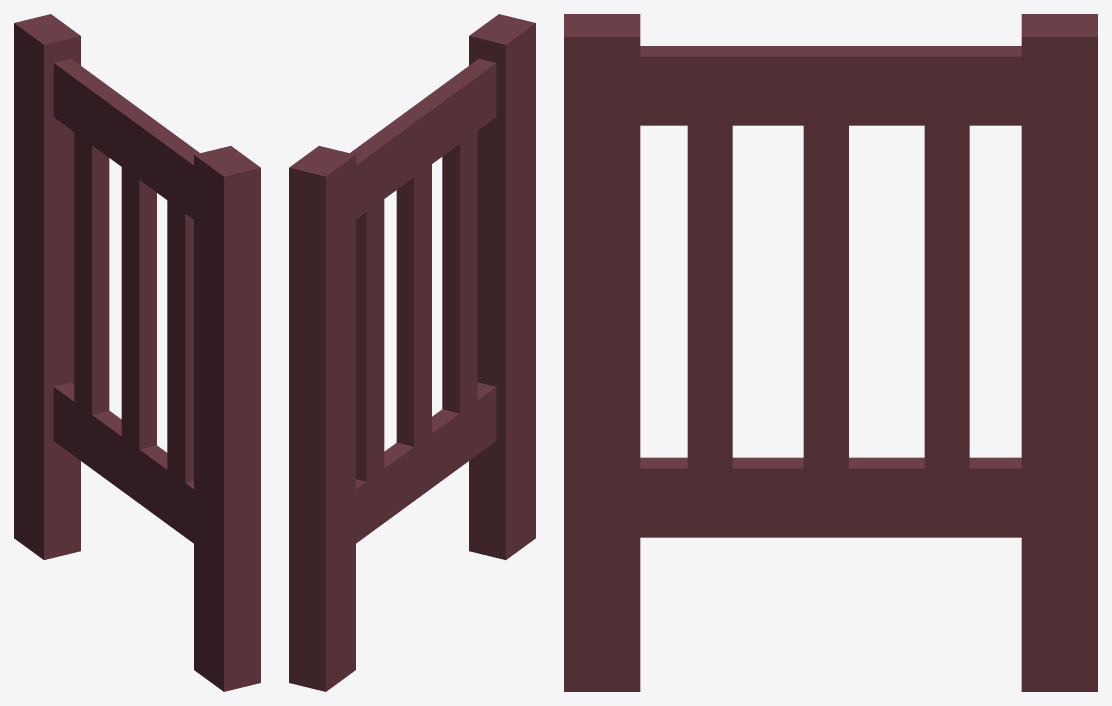
The model's file is ChairBack3.fbx.
The picture shows the model from 3 angles, left to right: view 1: azimuth 30°, elevation 25°; view 2: azimuth 150°, elevation 25°; view 3: azimuth 270°, elevation 25°; orthographic projection. The views are drawn at different scales.
Visible parts, largest first — view 1: ChairBack3; view 2: ChairBack3; view 3: ChairBack3.
Part boxes in pixels (box(x1,y1,x2,y2)): ChairBack3: box(14, 14, 260, 691); ChairBack3: box(289, 14, 535, 691); ChairBack3: box(564, 14, 1097, 691).
Size of the model in its own units: 0.0487 by 0.65 by 0.48.
